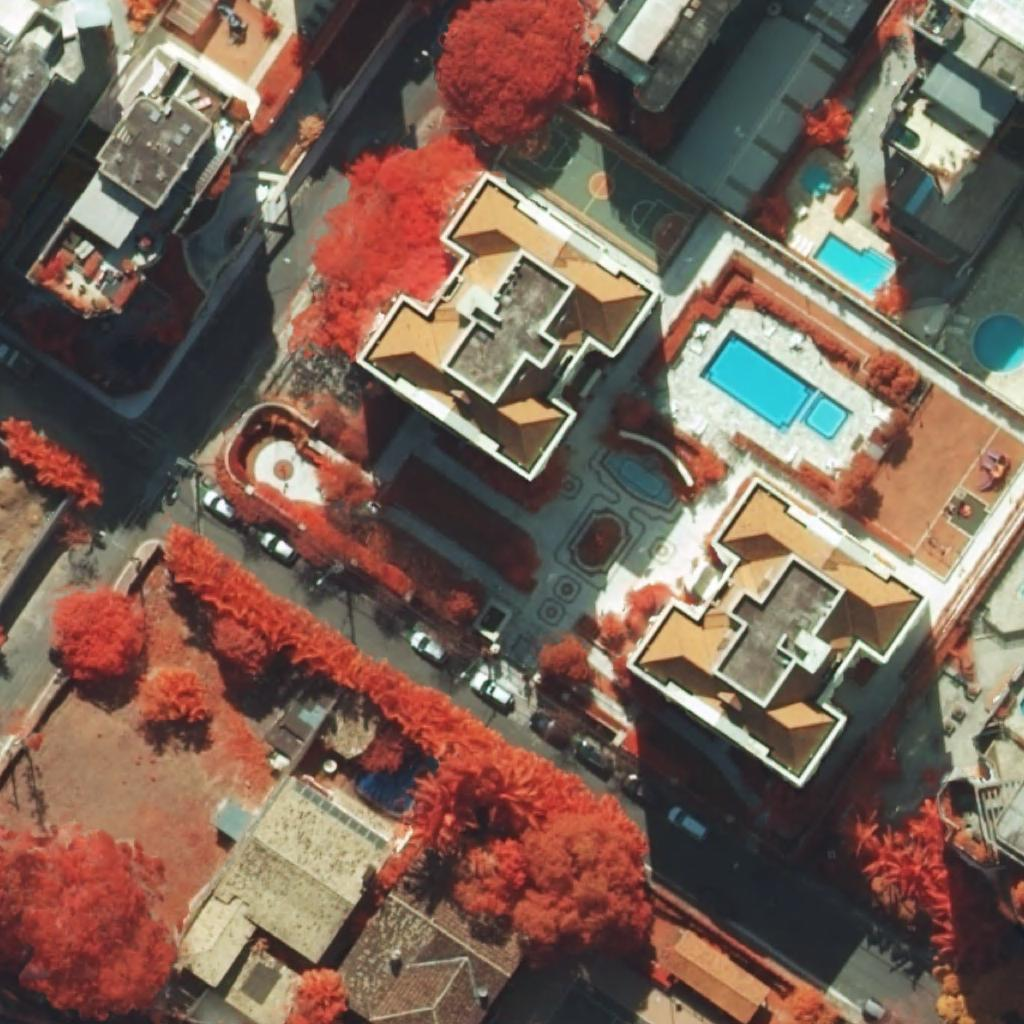pool: (698, 329, 853, 442), (812, 231, 895, 297), (973, 314, 1024, 373), (801, 162, 832, 196), (891, 123, 920, 150)
